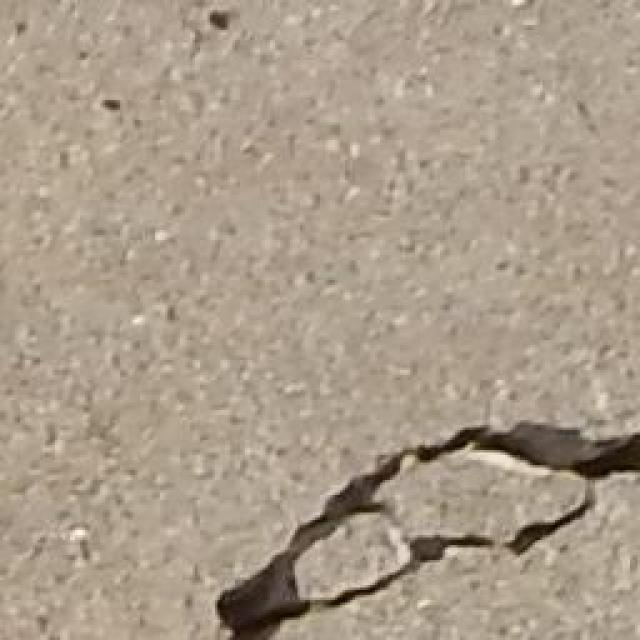concrete-crack: (206, 414, 637, 640)
